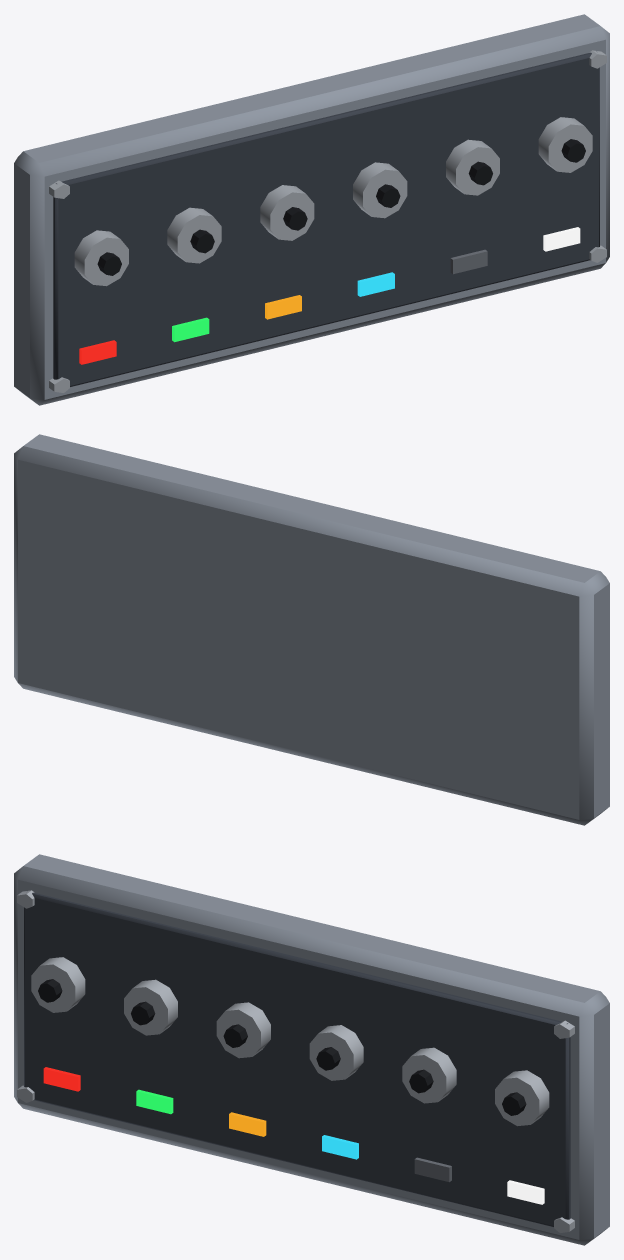
The model's file is controlpanel_comm_jack_panel.glb.
3 renders of one model, top to bottom at view 1: azimuth 30°, elevation 25°; view 2: azimuth 150°, elevation 25°; view 3: azimuth 330°, elevation 25°, orthographic.
Visible parts, largest first — view 1: controlpanel_comm_jack_panel; view 2: controlpanel_comm_jack_panel; view 3: controlpanel_comm_jack_panel.
Boxes of the visible parts, x1=… form: controlpanel_comm_jack_panel: x1=14, y1=14, x2=609, y2=405; controlpanel_comm_jack_panel: x1=14, y1=434, x2=609, y2=825; controlpanel_comm_jack_panel: x1=14, y1=854, x2=609, y2=1245.
Bounding box in the file's own units: 0.5 × 0.2 × 0.069.
